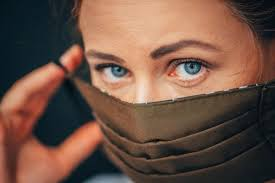with-mask: (55, 1, 275, 180)
